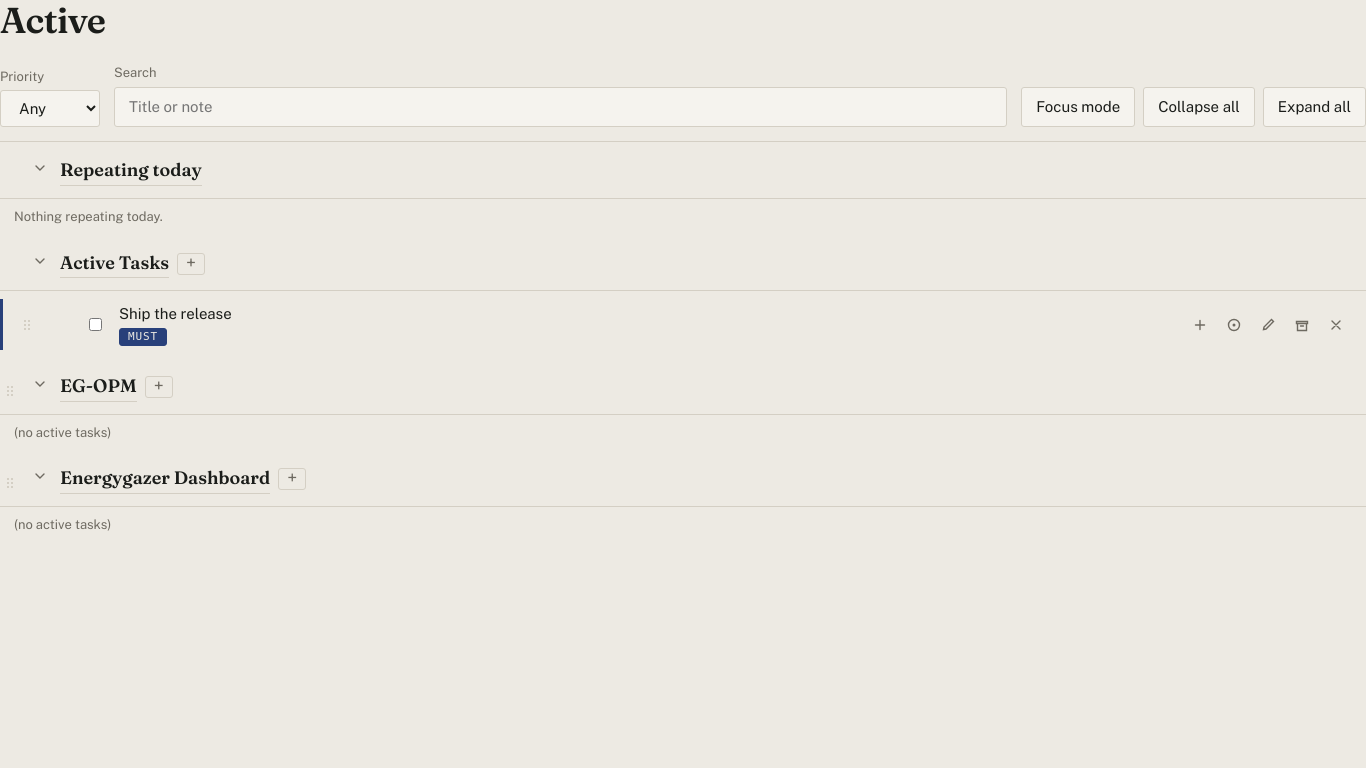
Test: a subtask starts at its parent's priority › preselects the parent priority rather than the standing default
The width and height of the screenshot is (1366, 768).
expect the text "Ship the release" is shown: met, box [119, 305, 232, 322]
Click the 3rd button named "add a subtask to Ship the release": (1200,325) [1184, 309, 1216, 341]
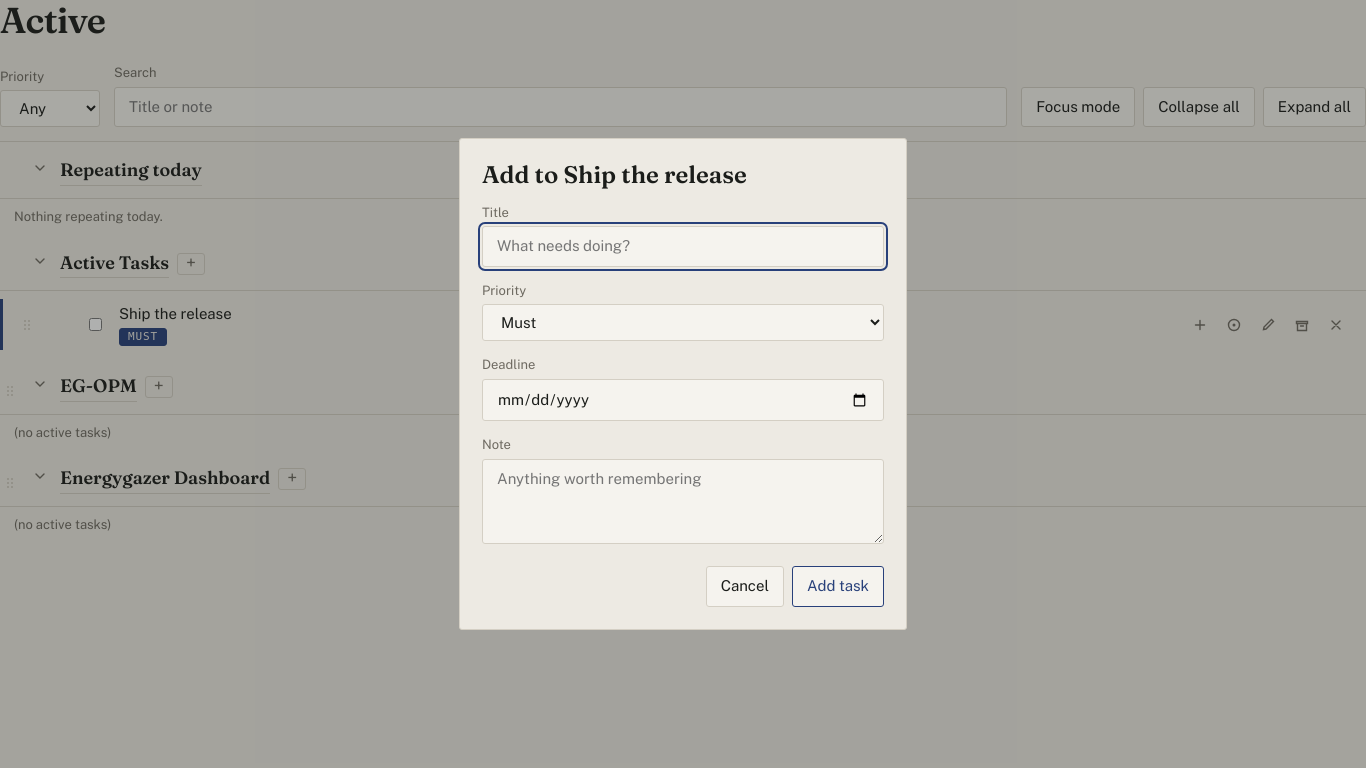
expect the dropdown labelled "Priority" shows "Must": met, box [482, 304, 884, 341]
